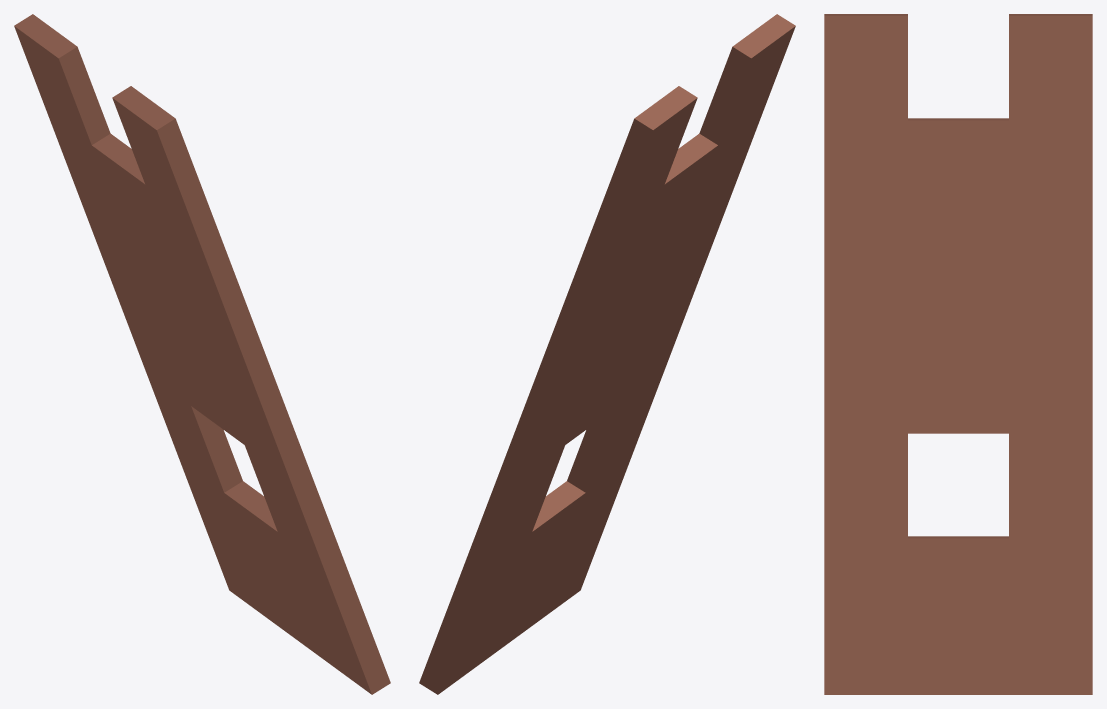
Rendered from SARM_SAR_Building_URB_003_Wall_E_00.glb.
3 renders of one model, left to right at view 1: azimuth 30°, elevation 25°; view 2: azimuth 150°, elevation 25°; view 3: azimuth 270°, elevation 25°, orthographic. The views are drawn at different scales.
Parts seen in each view (by area): view 1: SAR_Building_URB_003_Wall_E_00.001; view 2: SAR_Building_URB_003_Wall_E_00.001; view 3: SAR_Building_URB_003_Wall_E_00.001.
Part boxes in pixels (left/top/right/bottom): SAR_Building_URB_003_Wall_E_00.001: left=14, top=14, right=390, bottom=694; SAR_Building_URB_003_Wall_E_00.001: left=419, top=14, right=795, bottom=694; SAR_Building_URB_003_Wall_E_00.001: left=824, top=14, right=1092, bottom=694.
Bounding box in the file's own units: 3.03 × 7.72 × 3.2.
